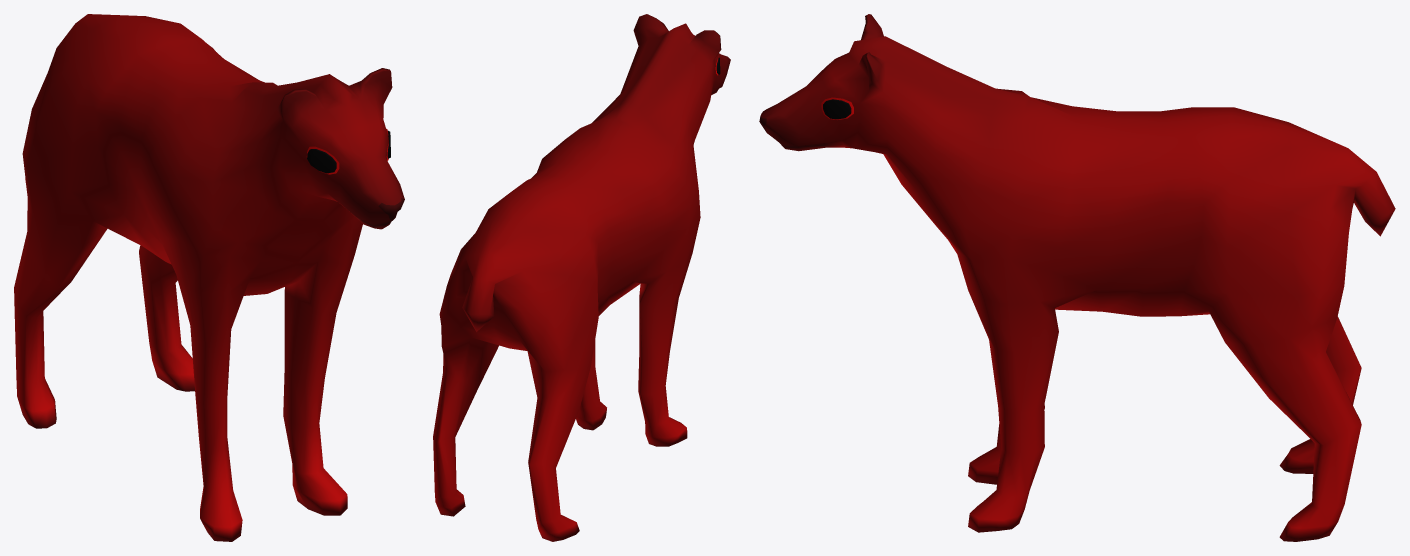
The model's file is Animals_Hyena.fbx.
3 renders of one model, left to right at view 1: azimuth 30°, elevation 25°; view 2: azimuth 150°, elevation 25°; view 3: azimuth 270°, elevation 25°, orthographic. The views are drawn at different scales.
Visible parts, largest first — view 1: base; view 2: base; view 3: base.
Part boxes in pixels (<box>): base: <box>14,14,404,541</box>; base: <box>433,14,730,541</box>; base: <box>759,14,1395,541</box>.
Size of the model in its own units: 43.35 by 114 by 141.
